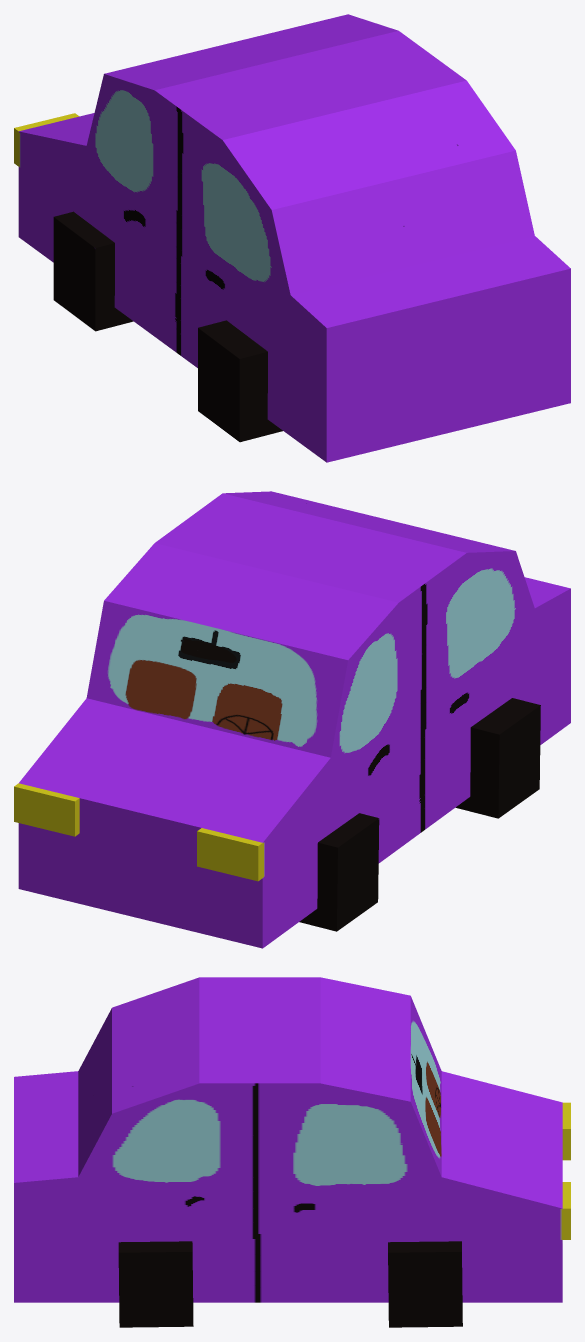
File: Car.fbx
The picture shows the model from 3 angles, top to bottom: view 1: azimuth 30°, elevation 25°; view 2: azimuth 150°, elevation 25°; view 3: azimuth 270°, elevation 25°; orthographic projection. The views are drawn at different scales.
Visible parts, largest first — view 1: Cube; view 2: Cube; view 3: Cube.
Part boxes in pixels (left/top/right/bottom): Cube: left=14, top=14, right=570, bottom=462; Cube: left=14, top=491, right=570, bottom=948; Cube: left=14, top=977, right=570, bottom=1327.
Size of the model in its own units: 399 by 339 by 724.
